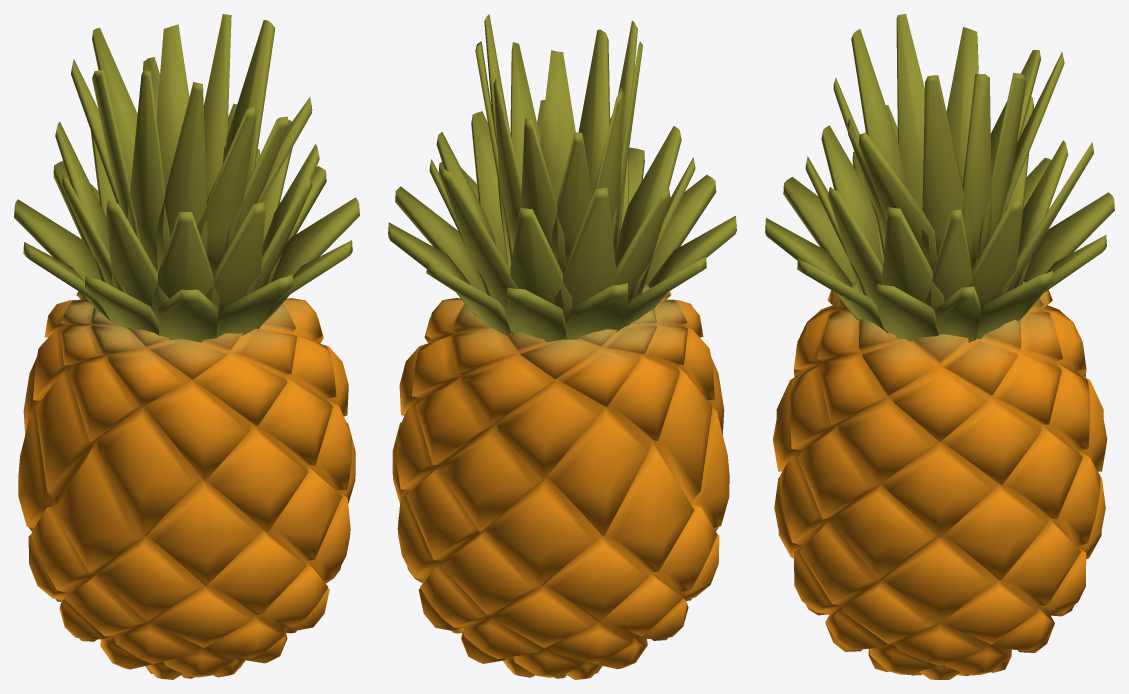
File: Pineapple.fbx
3 views of the same model, side by side, from view 1: azimuth 30°, elevation 25°; view 2: azimuth 150°, elevation 25°; view 3: azimuth 270°, elevation 25° (orthographic).
Parts seen in each view (by area): view 1: pineapple; view 2: pineapple; view 3: pineapple.
Part boxes in pixels (box(x1,y1,x2,y2)): pineapple: box(14, 14, 359, 679); pineapple: box(388, 14, 736, 679); pineapple: box(765, 14, 1114, 679).
Size of the model in its own units: 416 by 821 by 420.
1 material, 1 textured.
